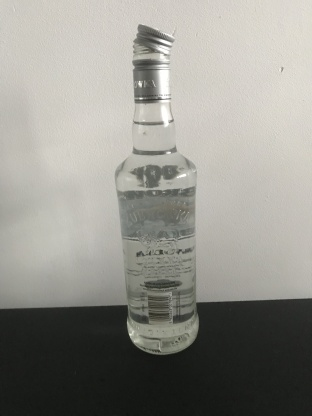nakretka: (130, 20, 175, 102)
